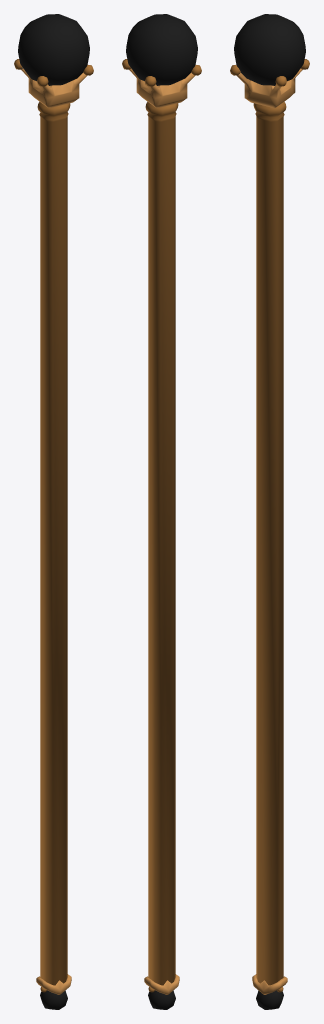
File: scepter.fbx
3 views of the same model, side by side, from view 1: azimuth 30°, elevation 25°; view 2: azimuth 210°, elevation 25°; view 3: azimuth 330°, elevation 25° (orthographic).
Visible parts, largest first — view 1: scepter; view 2: scepter; view 3: scepter.
Part boxes in pixels (x1,y1,x2,y2): scepter: (14, 14, 93, 1009); scepter: (122, 14, 201, 1009); scepter: (230, 14, 309, 1009).
Size of the model in its own units: 21.3 by 325 by 21.3.
1 material, 1 textured.
